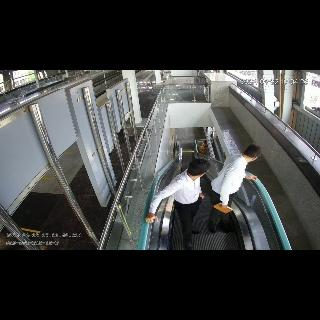normal: (146, 156, 210, 250), (208, 141, 262, 235)
